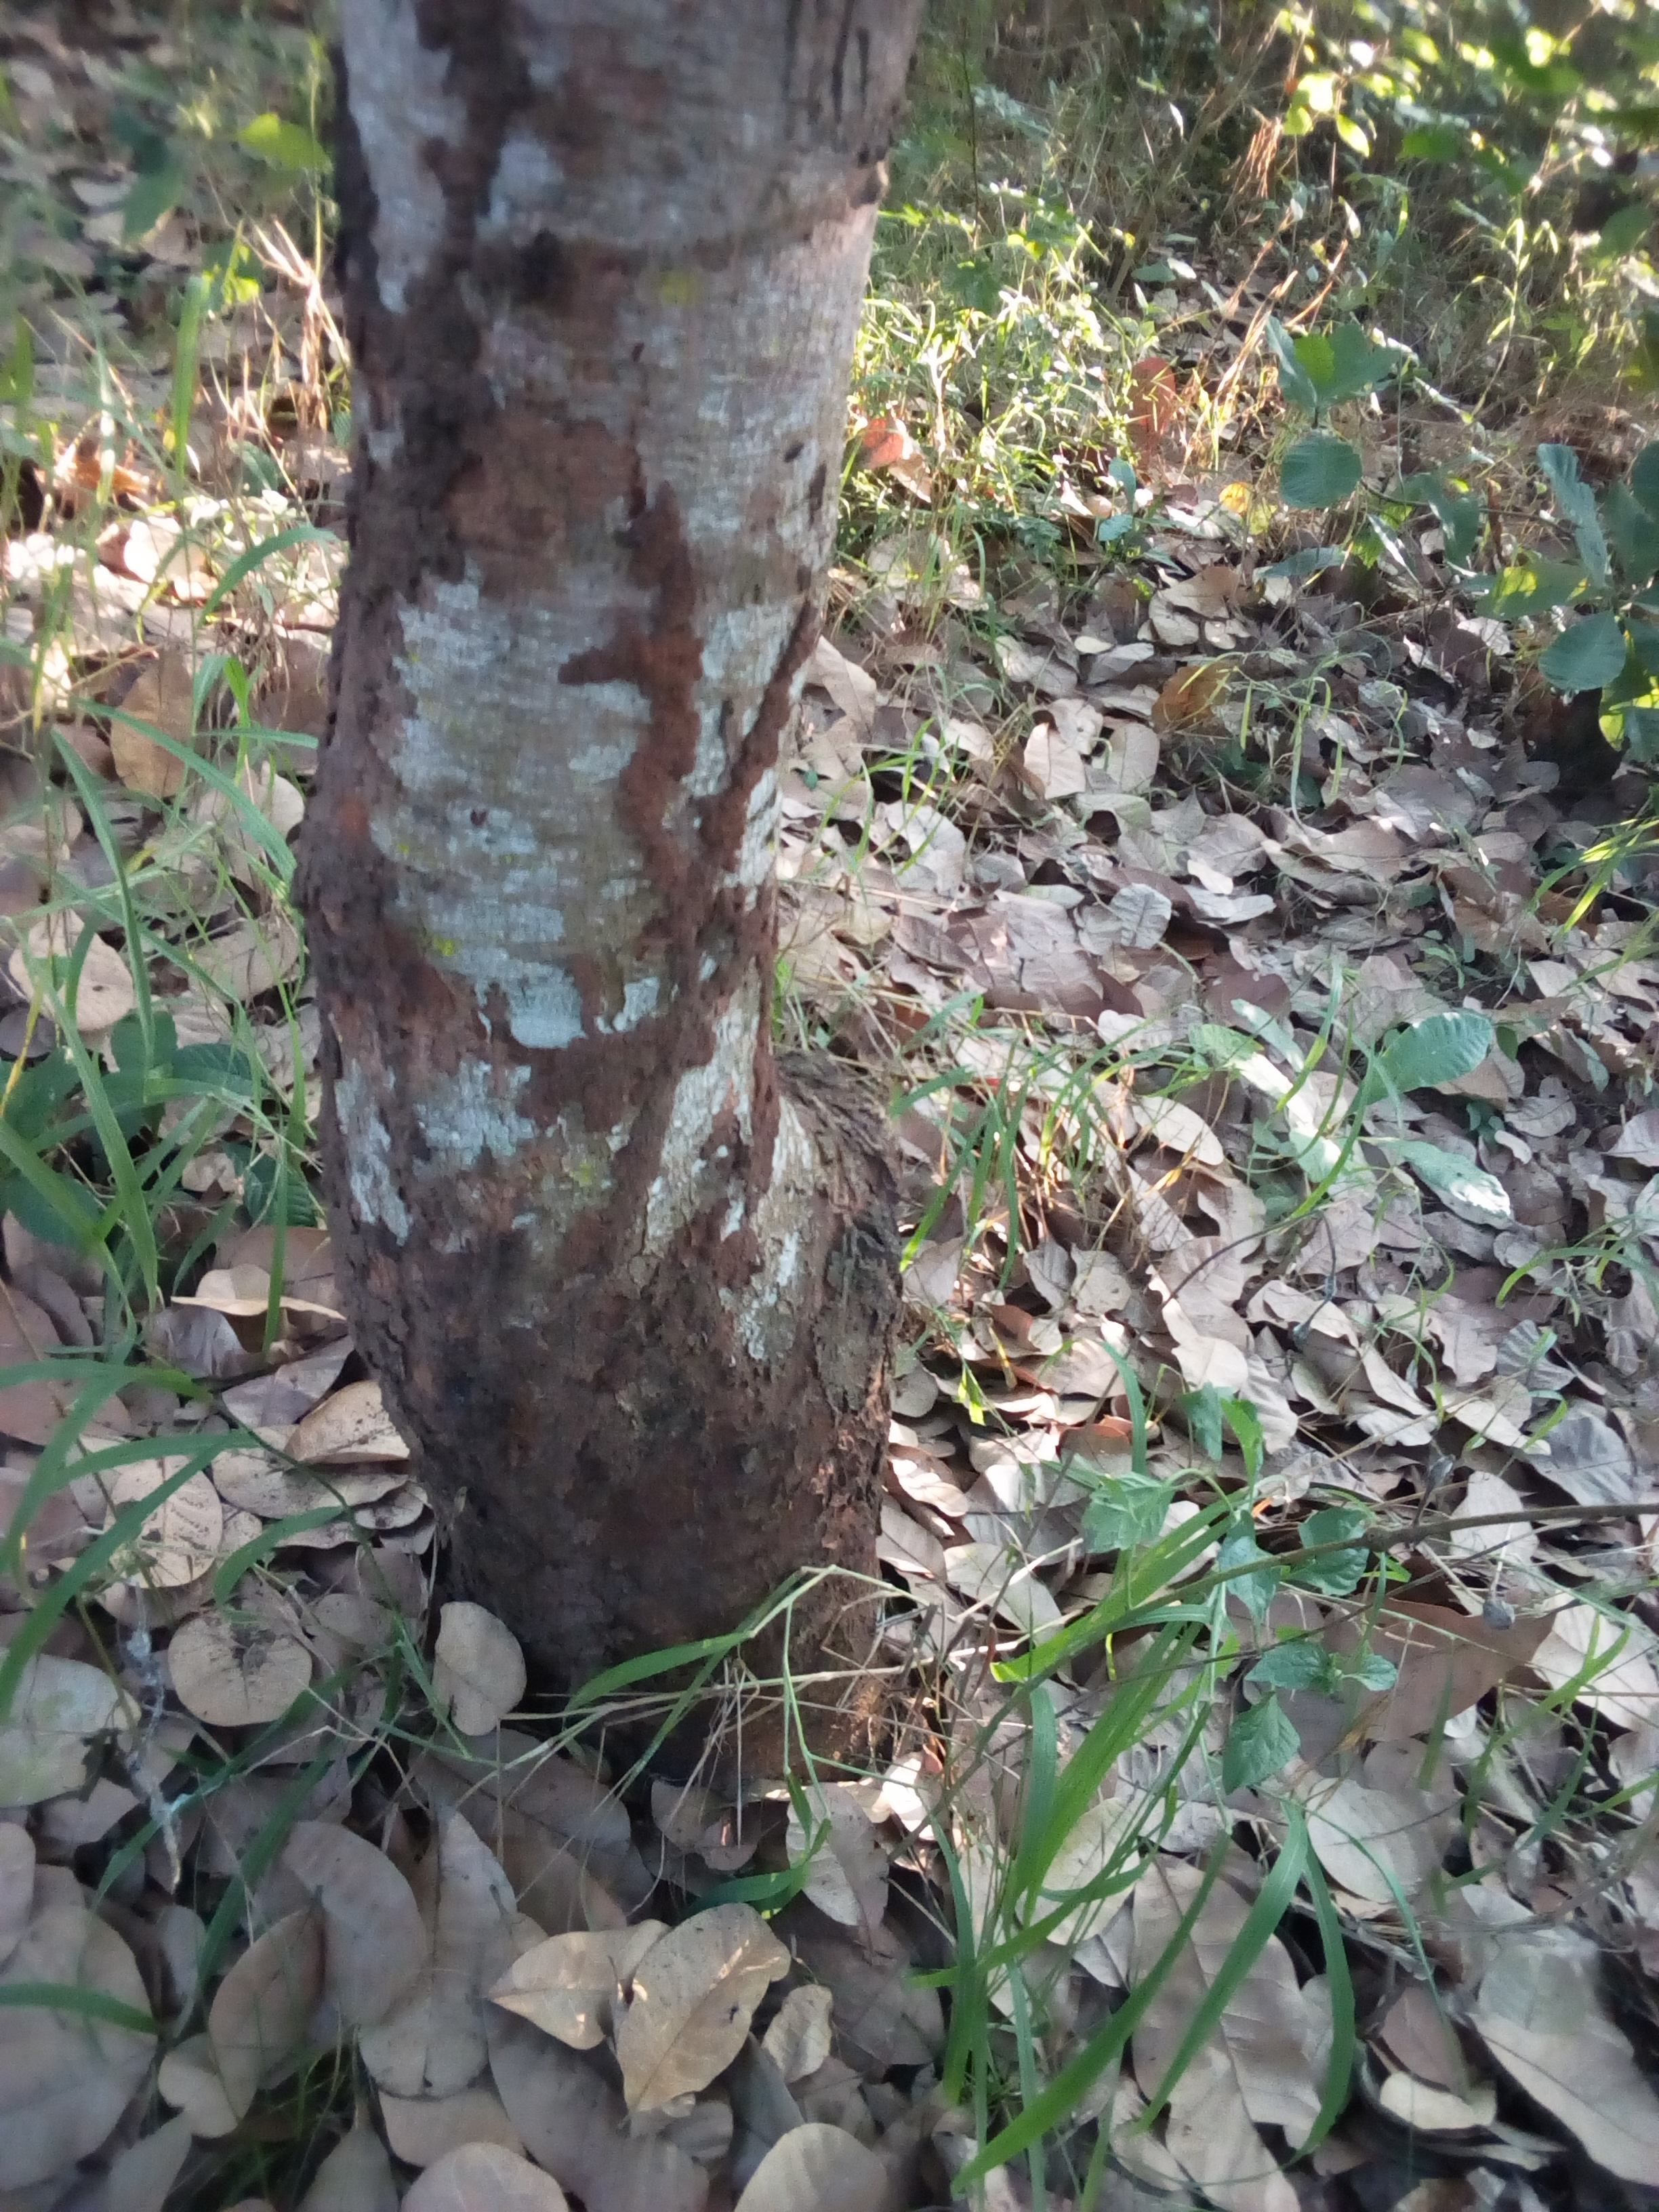Termites: (301, 19, 532, 1146), (610, 475, 840, 1583)
